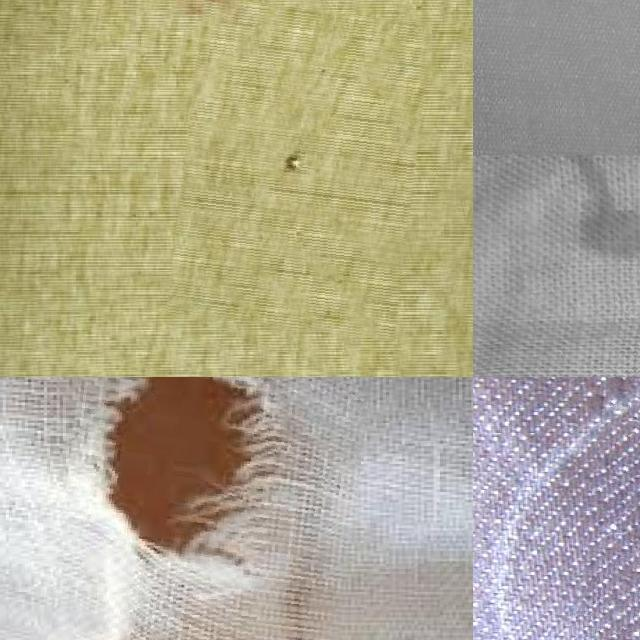other: (42, 377, 362, 640), (176, 2, 424, 334)
stains: (578, 383, 640, 640)
